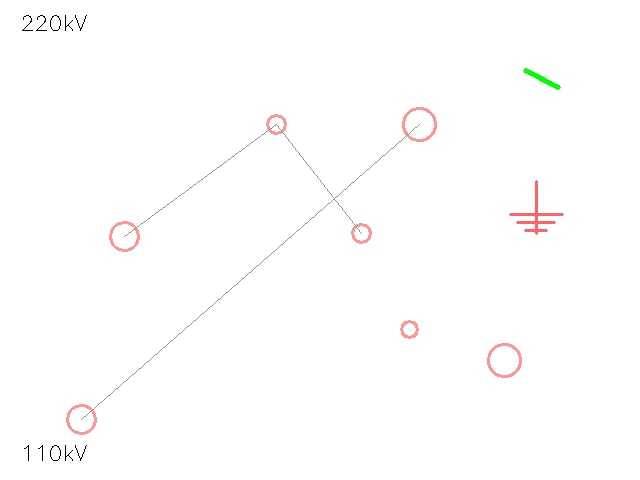busbar: (519, 56, 565, 102)
current_transformer: (471, 327, 537, 393), (96, 208, 152, 264)
disconnect_switch: (52, 390, 110, 448)
fuse: (386, 91, 452, 157)
ground: (510, 181, 562, 233)
load_break_switch: (393, 313, 425, 345)
reactor: (343, 215, 379, 251)
surge_arrester: (258, 106, 294, 142)
